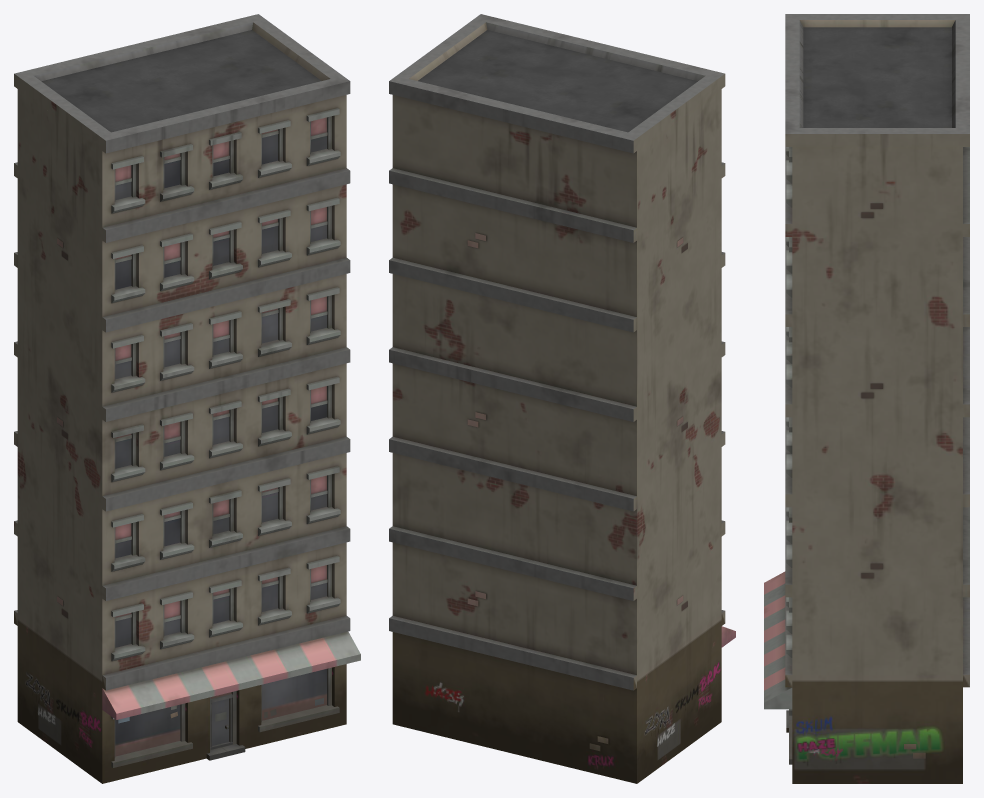
File: building_E_8f.glb
3 views of the same model, side by side, from view 1: azimuth 30°, elevation 25°; view 2: azimuth 150°, elevation 25°; view 3: azimuth 270°, elevation 25° (orthographic).
Visible parts, largest first — view 1: ground; view 2: ground; view 3: ground.
Part boxes in pixels (bbox=[...]): ground: bbox=[14, 14, 360, 783]; ground: bbox=[389, 14, 735, 783]; ground: bbox=[764, 14, 969, 783].
Bounding box in the file's own units: 2.01 × 5.05 × 1.45.
Materials: 2 (2 with a texture image).
